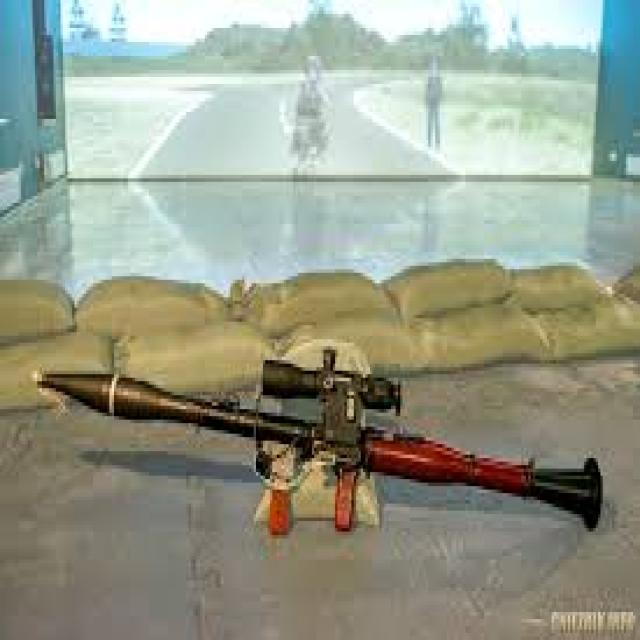Gun: (41, 331, 615, 599)
